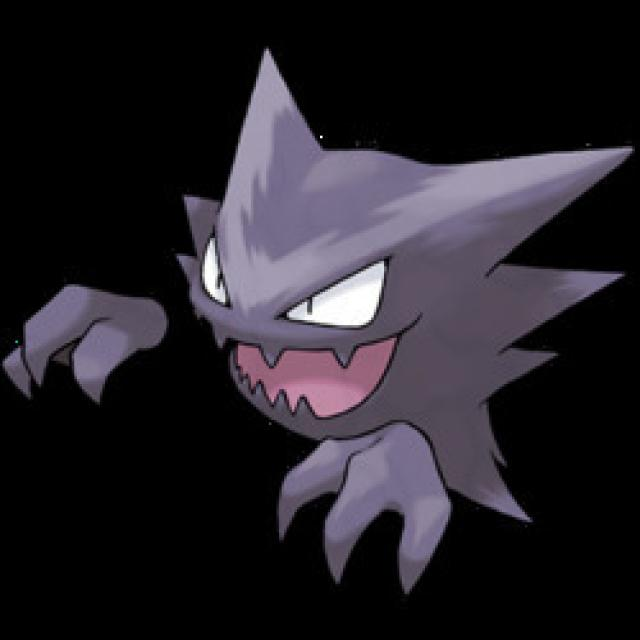Haunter: (3, 34, 626, 598)
